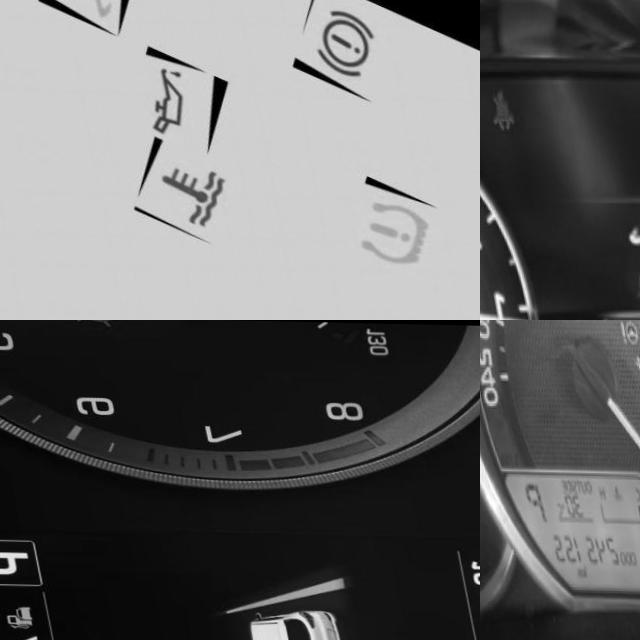Seat Belt: (480, 82, 513, 134)
